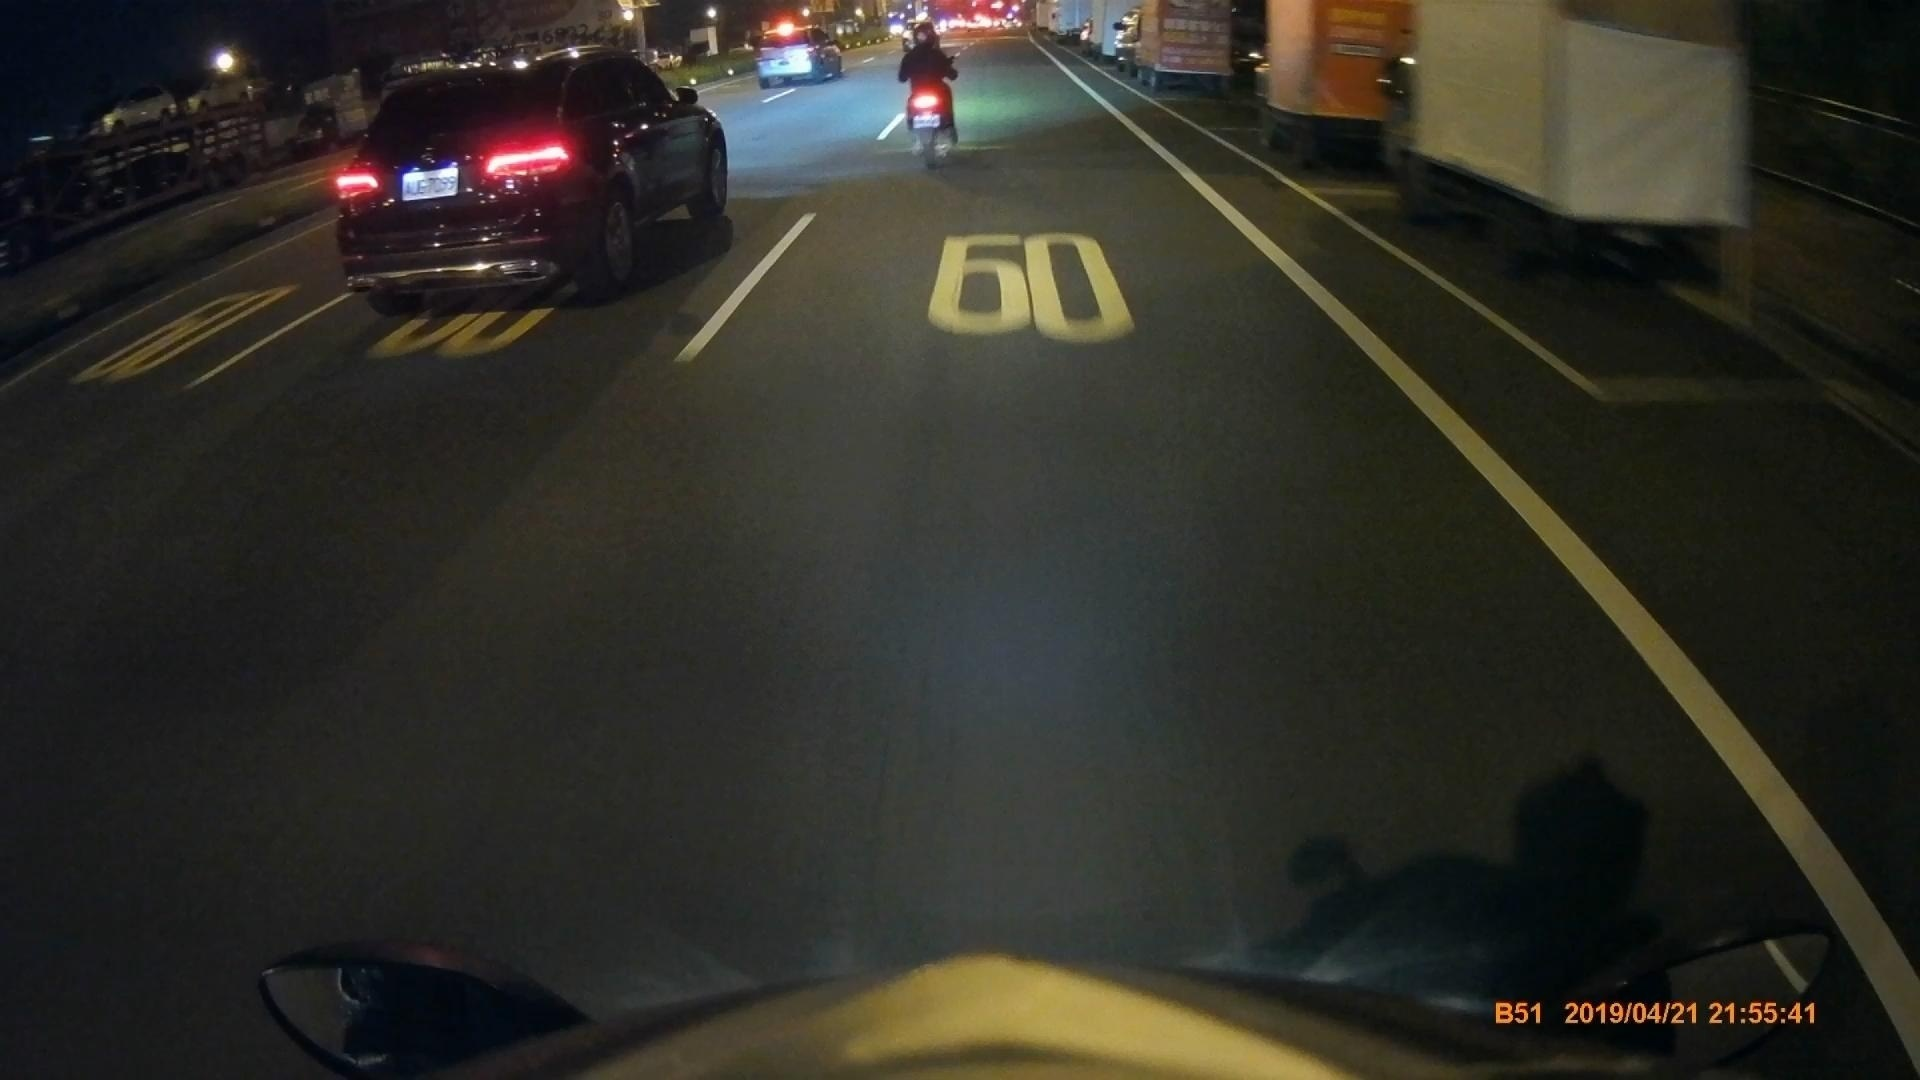License_plate: (402, 167, 462, 204)
